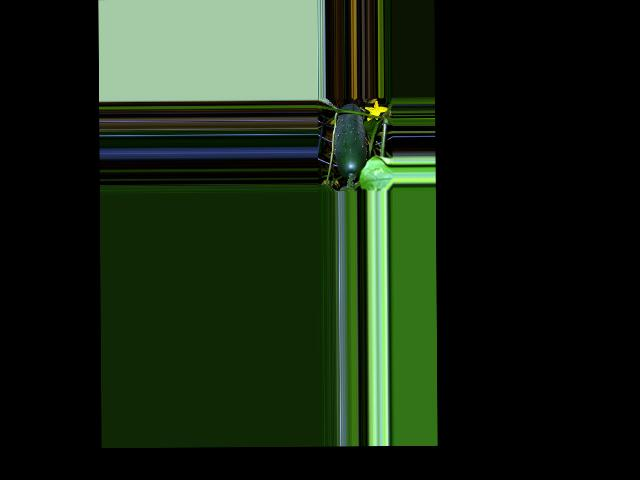cucumber: (333, 104, 366, 180)
